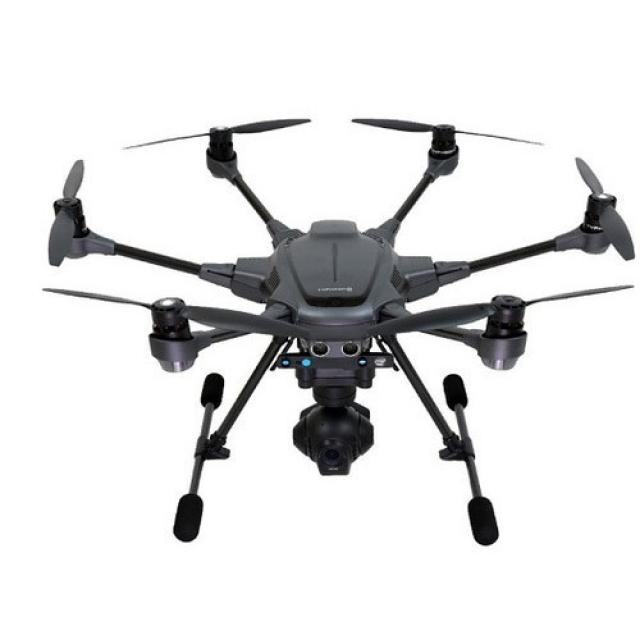drone: (22, 108, 640, 550)
